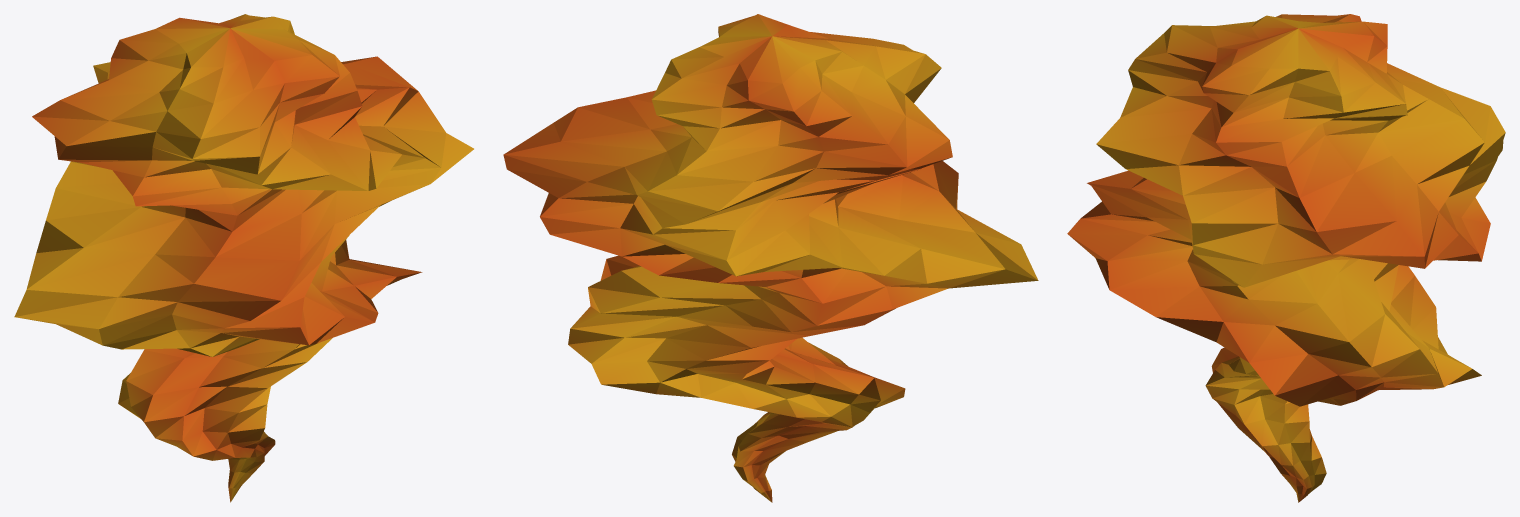
Rendered from Xiangling_GuobaState_Overall_GuobaJet_233_0_Outer.fbx.
3 views of the same model, side by side, from view 1: azimuth 30°, elevation 25°; view 2: azimuth 150°, elevation 25°; view 3: azimuth 270°, elevation 25° (orthographic).
Parts seen in each view (by area): view 1: PART_GuobaJet_233_0_Outer; view 2: PART_GuobaJet_233_0_Outer; view 3: PART_GuobaJet_233_0_Outer.
Boxes of the visible parts, x1=… form: PART_GuobaJet_233_0_Outer: x1=14, y1=14, x2=473, y2=502; PART_GuobaJet_233_0_Outer: x1=503, y1=14, x2=1038, y2=502; PART_GuobaJet_233_0_Outer: x1=1067, y1=14, x2=1505, y2=502.
Bounding box in the file's own units: 102 × 100 × 83.77.
